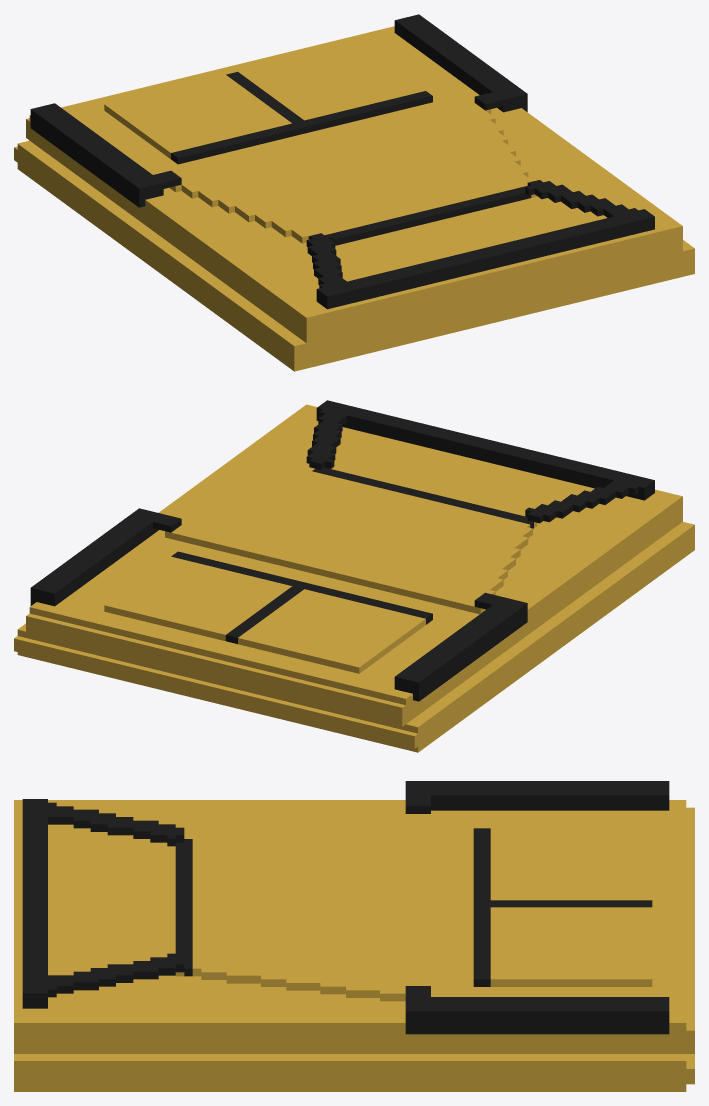
Rendered from apron_cut_resistant.glb.
The picture shows the model from 3 angles, top to bottom: view 1: azimuth 30°, elevation 25°; view 2: azimuth 150°, elevation 25°; view 3: azimuth 270°, elevation 25°; orthographic projection. The views are drawn at different scales.
Visible parts, largest first — view 1: apron_cut_resistant:compound; view 2: apron_cut_resistant:compound; view 3: apron_cut_resistant:compound.
Part boxes in pixels (left/top/right/bottom): apron_cut_resistant:compound: left=14, top=14, right=694, bottom=371; apron_cut_resistant:compound: left=14, top=400, right=694, bottom=752; apron_cut_resistant:compound: left=14, top=781, right=694, bottom=1091.
Bounding box in the file's own units: 0.264 × 0.04 × 0.32.
